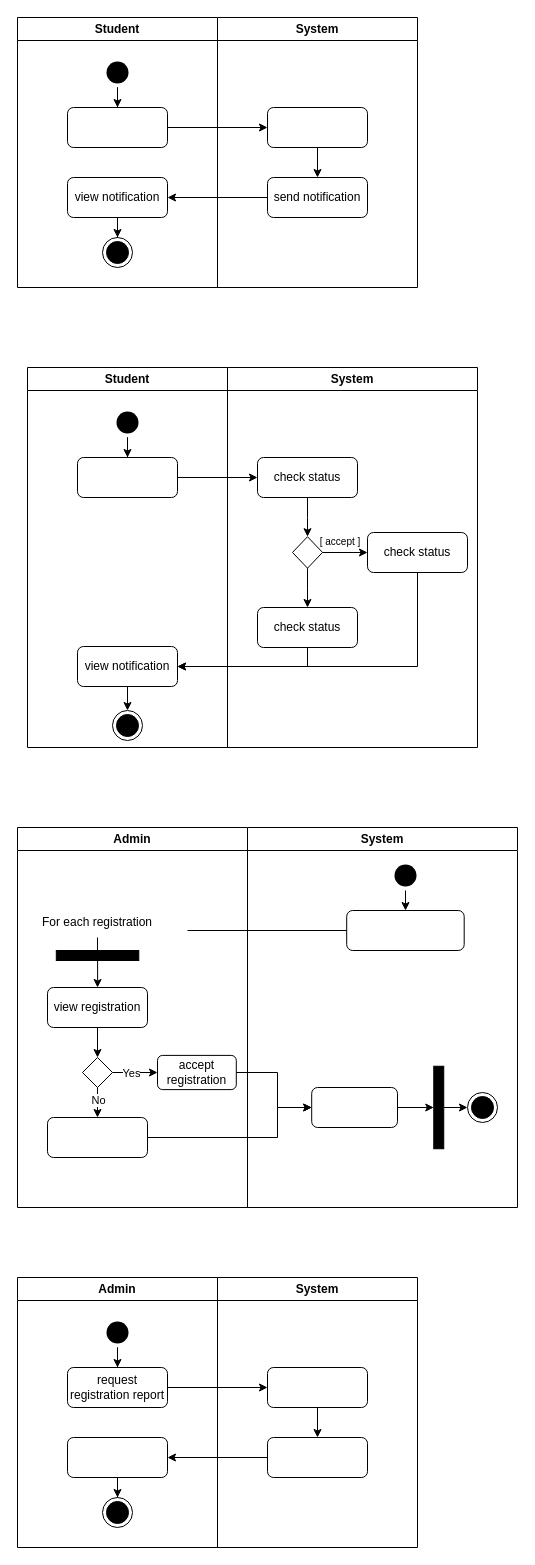
This 535x1565 diagram has some shape labels left out. Here are the shapes that lost their labels. From the top down, the centre of each, then its label:
[117,127]: submit registration form
[317,127]: receive registration
[127,477]: enter IC number
[405,930]: retrieve submitted registration
[354,1107]: update status
[97,1137]: reject registration
[317,1387]: receive request
[117,1457]: view report
[317,1457]: generate report
